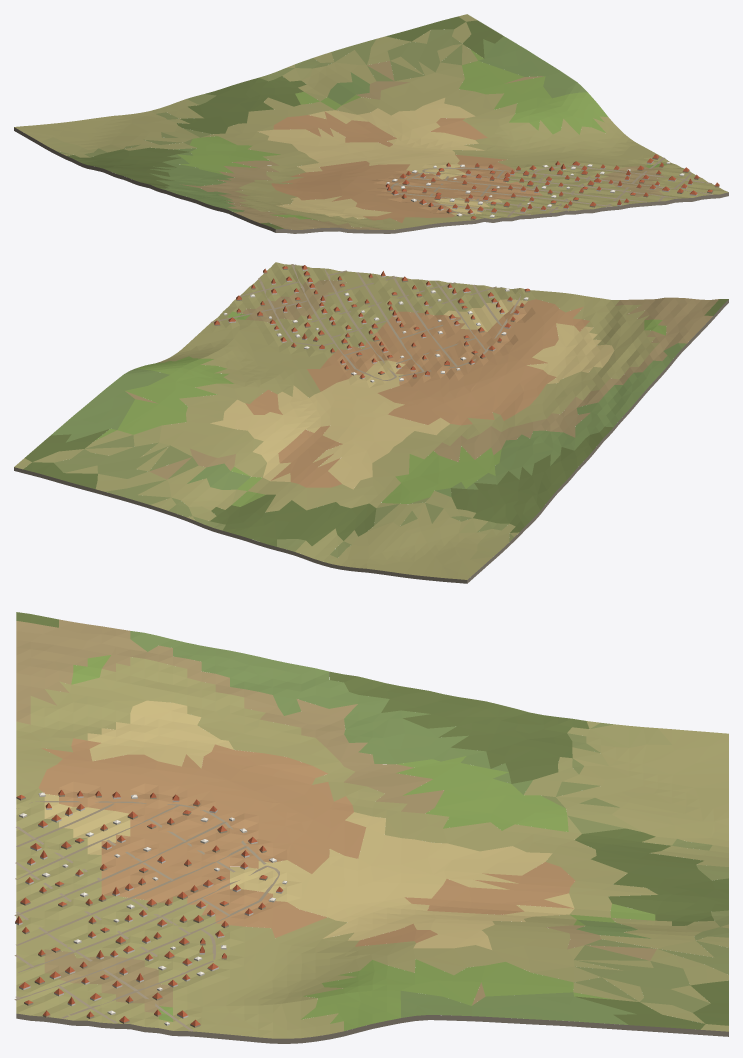
Rendered from parca_+9_+0-uzak.glb.
3 views of the same model, one above another, from view 1: azimuth 30°, elevation 25°; view 2: azimuth 150°, elevation 25°; view 3: azimuth 270°, elevation 25° (orthographic). The views are drawn at different scales.
Visible parts, largest first — view 1: parca_+9_+0_arazi_uzak, parca_+9_+0_yapilar_uzak, parca_+9_+0_yollar_uzak; view 2: parca_+9_+0_arazi_uzak, parca_+9_+0_yapilar_uzak, parca_+9_+0_yollar_uzak; view 3: parca_+9_+0_arazi_uzak, parca_+9_+0_yapilar_uzak, parca_+9_+0_yollar_uzak.
Boxes of the visible parts, left/top/right/bottom form: parca_+9_+0_arazi_uzak: left=14, top=14, right=728, bottom=233; parca_+9_+0_yapilar_uzak: left=385, top=154, right=719, bottom=219; parca_+9_+0_yollar_uzak: left=390, top=157, right=712, bottom=218; parca_+9_+0_arazi_uzak: left=14, top=262, right=728, bottom=583; parca_+9_+0_yapilar_uzak: left=214, top=265, right=530, bottom=382; parca_+9_+0_yollar_uzak: left=210, top=264, right=520, bottom=380; parca_+9_+0_arazi_uzak: left=16, top=612, right=728, bottom=1043; parca_+9_+0_yapilar_uzak: left=15, top=790, right=287, bottom=1027; parca_+9_+0_yollar_uzak: left=14, top=801, right=279, bottom=1031.
Bounding box in the file's own units: 1004 × 232 × 1003.
